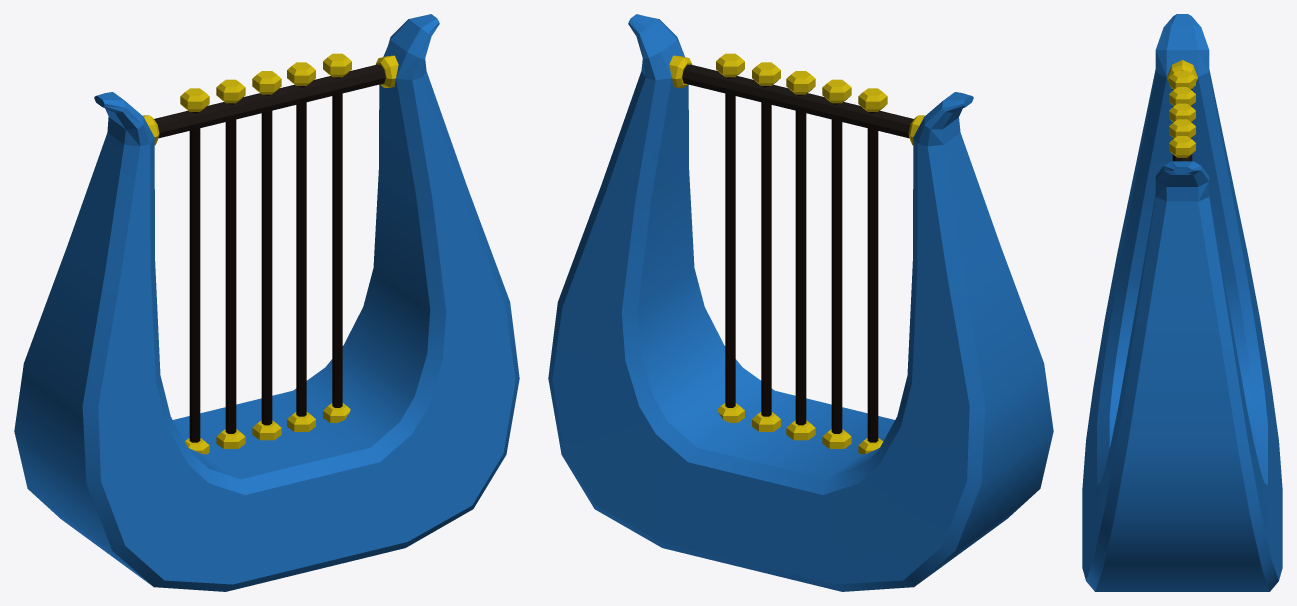
File: Harp.FBX
3 renders of one model, left to right at view 1: azimuth 30°, elevation 25°; view 2: azimuth 150°, elevation 25°; view 3: azimuth 270°, elevation 25°, orthographic. The views are drawn at different scales.
Visible parts, largest first — view 1: Harp; view 2: Harp; view 3: Harp.
Boxes of the visible parts, <box> form: Harp: <box>14,14,519,591</box>; Harp: <box>548,14,1053,591</box>; Harp: <box>1082,14,1282,591</box>.
Size of the model in its own units: 961 by 410 by 1011.
